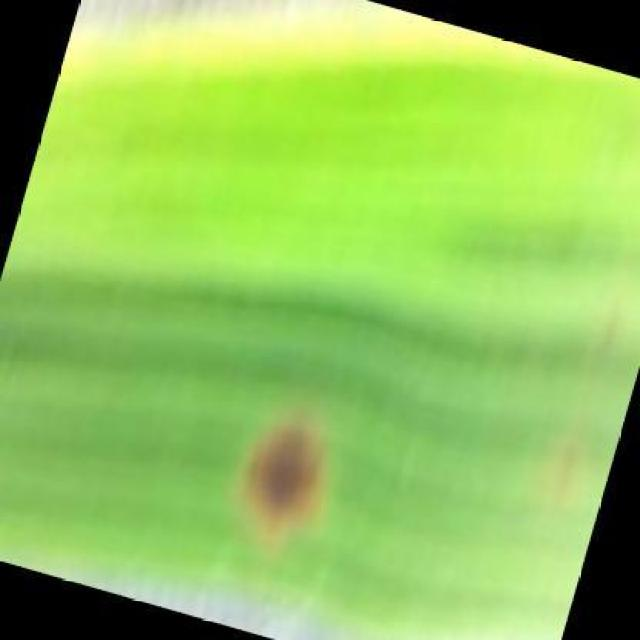Leaf_Blast: (199, 373, 364, 567), (526, 422, 597, 520), (584, 289, 636, 360)
